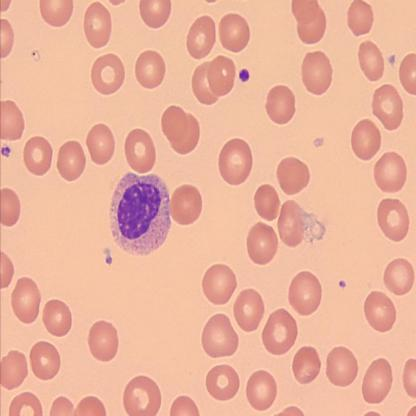Metamyelocyte: (108, 170, 176, 258)
